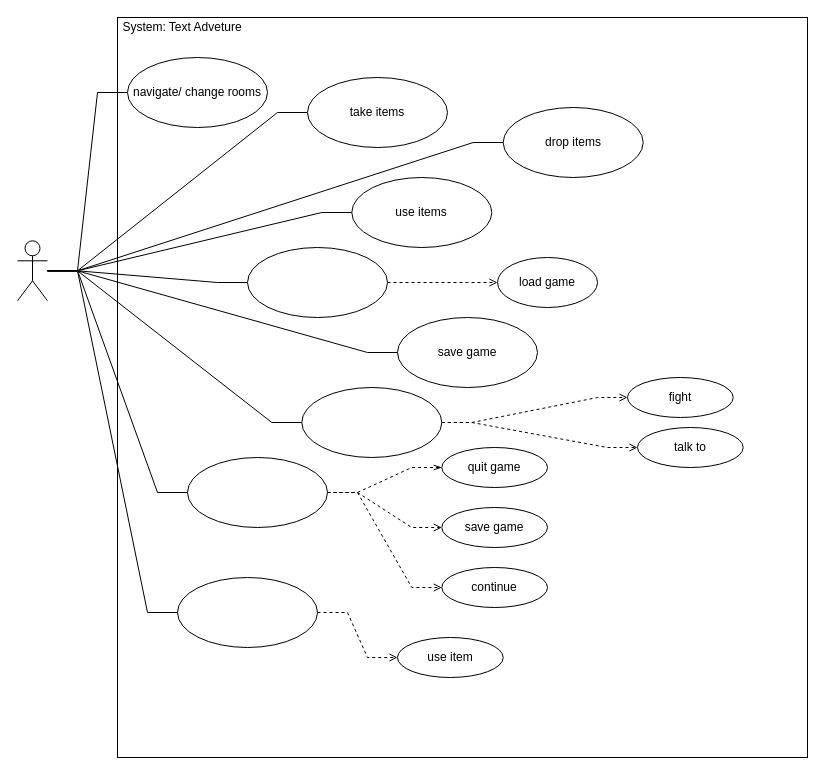
This 825x775 diagram has some shape labels left out. Each missing label, with the centre of its shape:
"Actor" belongs at (x=32, y=270).
"display inventory" belongs at (x=247, y=612).
"display menu" belongs at (x=257, y=492).
"interact with people/creatures" belongs at (x=371, y=422).
"start game" belongs at (x=317, y=282).
